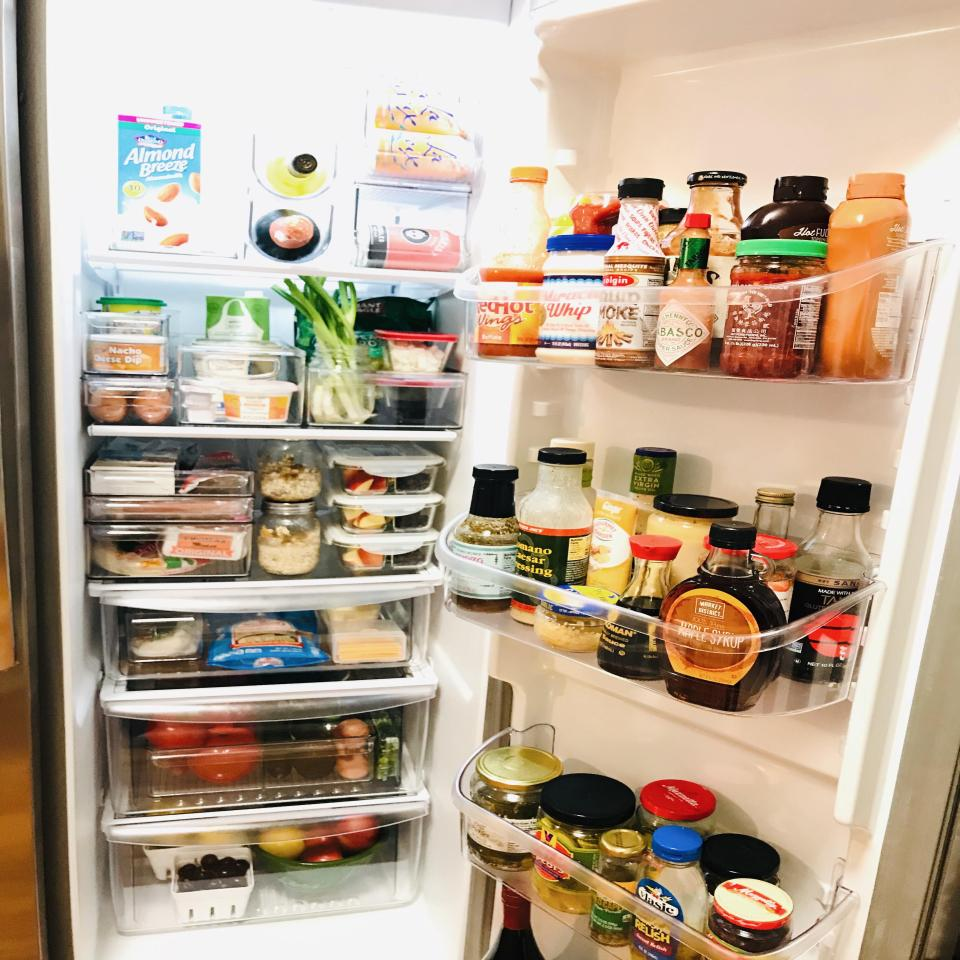Huevos: (84, 380, 174, 424)
Tomate: (191, 728, 261, 785), (149, 720, 204, 749)
